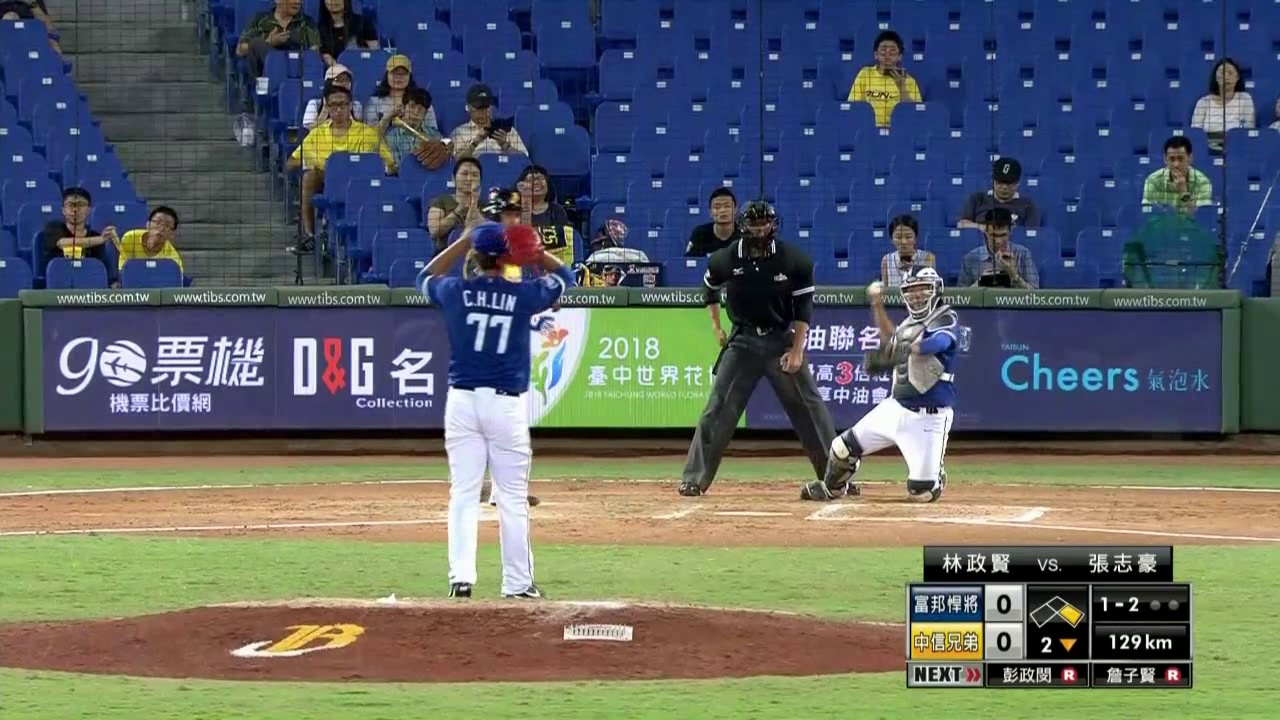ball: (864, 278, 886, 297)
base: (1027, 591, 1086, 629)
out: (1147, 591, 1180, 620)
score1: (986, 587, 1022, 618)
score2: (985, 626, 1021, 656)
session: (1029, 631, 1085, 659)
speed: (1092, 628, 1186, 652)
strikeball: (1092, 590, 1148, 620)
